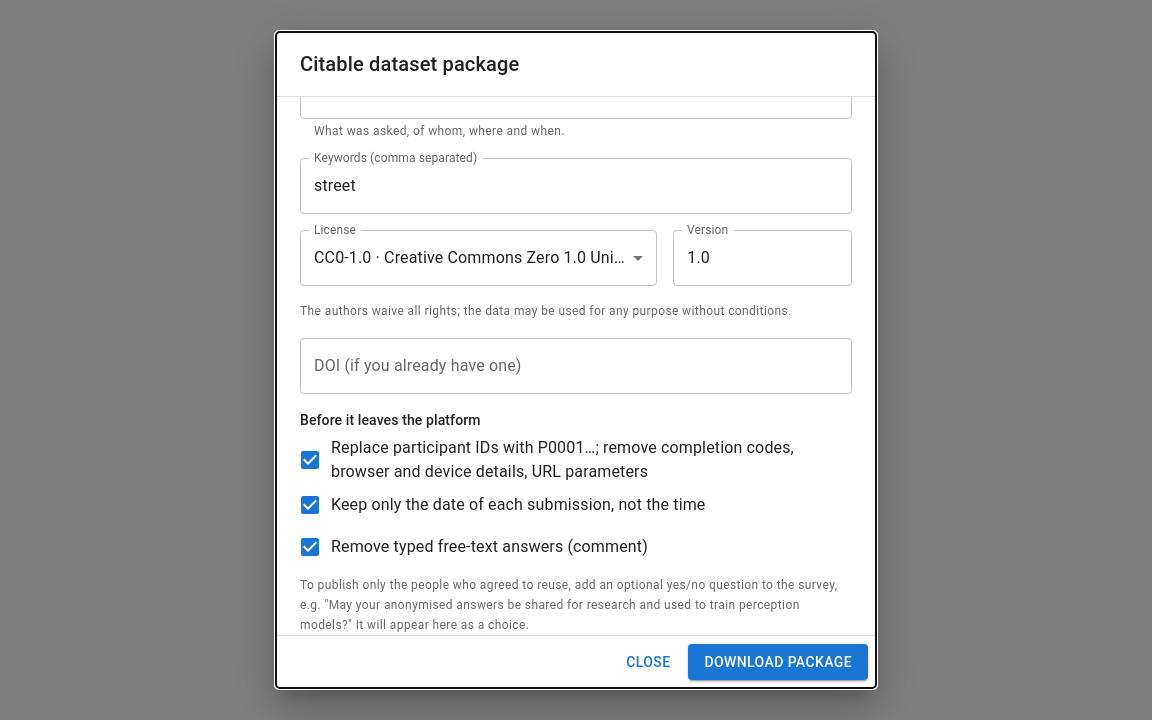
Scenario: the form starts from the saved details and hands the cleaned values to the builder
(page scrolled)
Check: the text "Remove typed free-text answers (comment)" is shown, box 331,535 -> 648,559
Type "https://doi.org/10.5281/zenodo.42" into the field labelled "DOI (if you already have one)" at (576, 366), box 300,338 -> 852,394
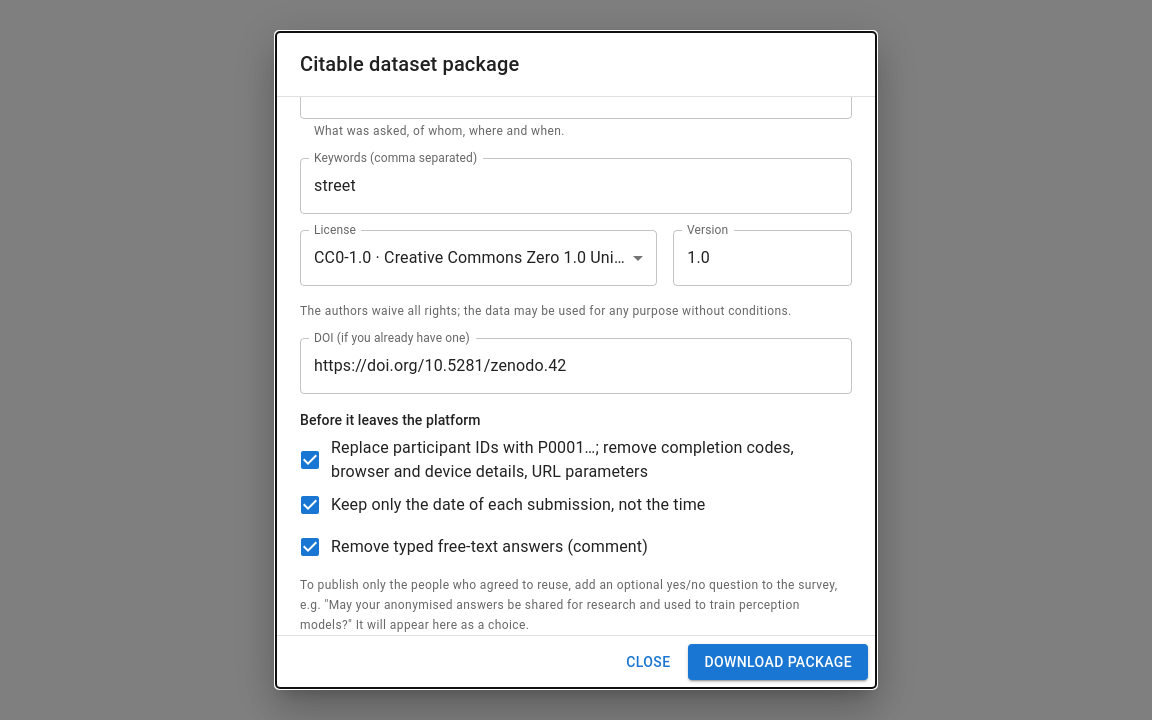
Click the button "Download package" at (778, 662), box 688,644 -> 868,680
(page scrolled)
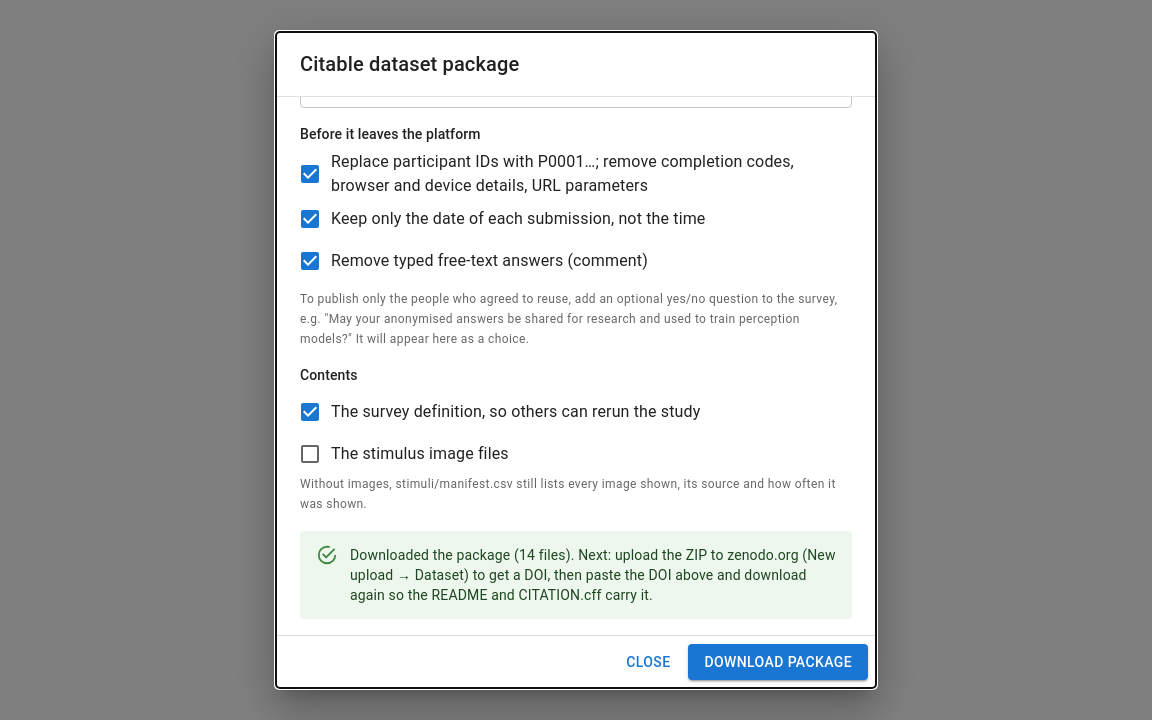
Check: the text "Downloaded the package (14 files)" is shown, box 350,547 -> 575,563
